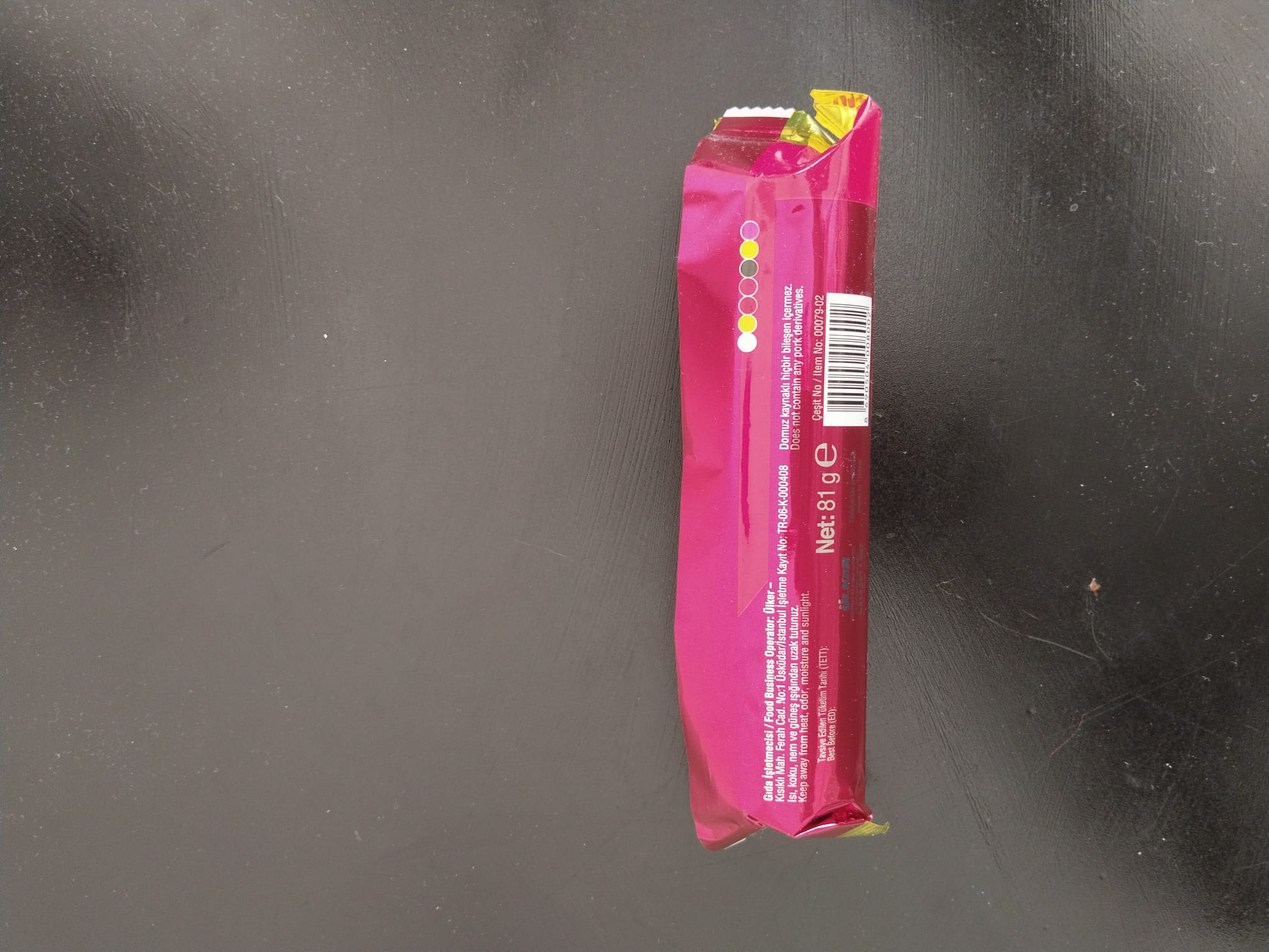ulker_cokoprens_biskuvi: (671, 91, 876, 862)
